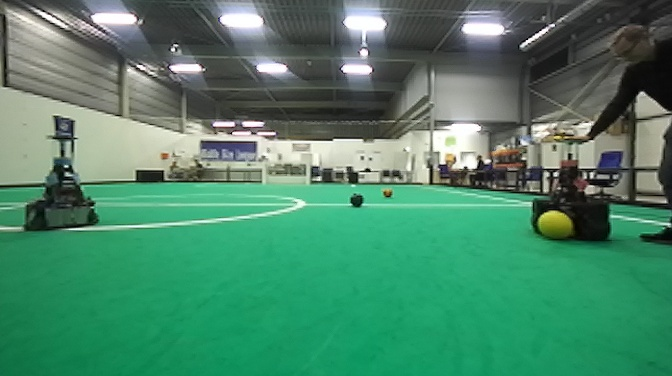ball: (535, 208, 576, 244), (348, 191, 367, 210), (381, 188, 394, 200)
goal: (261, 162, 311, 189)
goalpost: (304, 162, 312, 188), (260, 163, 267, 187)
human_part: (568, 21, 672, 247)
robot: (17, 113, 106, 236), (529, 138, 614, 244)
